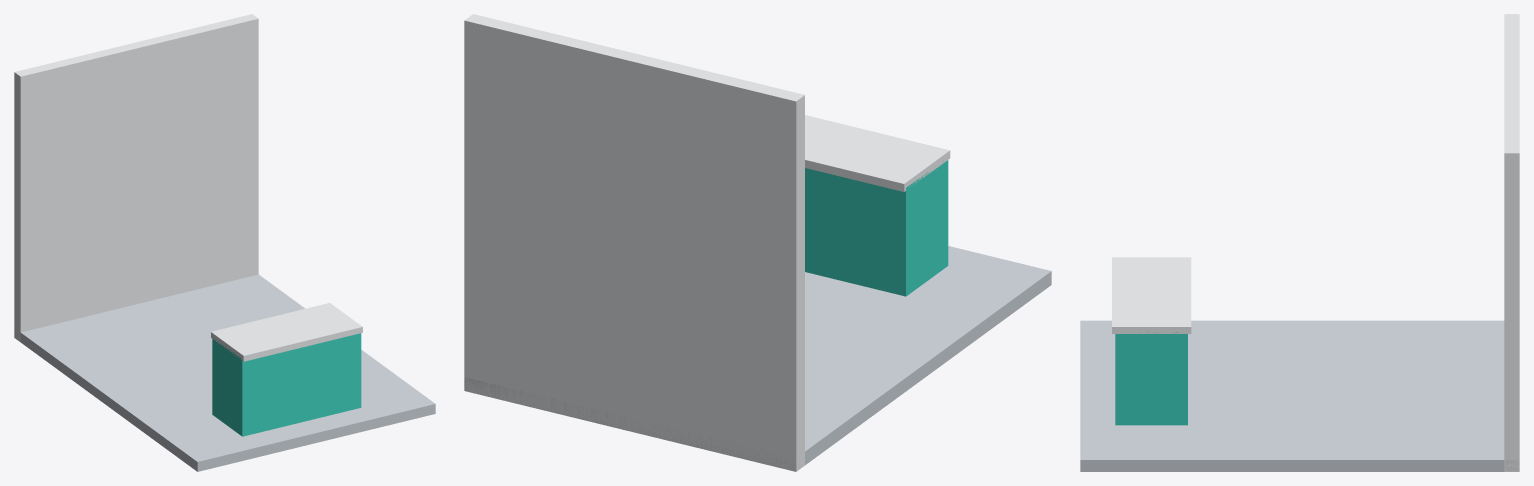
The picture shows the model from 3 angles, left to right: view 1: azimuth 30°, elevation 25°; view 2: azimuth 150°, elevation 25°; view 3: azimuth 270°, elevation 25°; orthographic projection. The views are drawn at different scales.
Visible parts, largest first — view 1: Exhibition Booth Concept; view 2: Exhibition Booth Concept; view 3: Exhibition Booth Concept.
Boxes of the visible parts, x1,y1,x2,y2 form: Exhibition Booth Concept: (14,14,435,471); Exhibition Booth Concept: (464,14,1051,471); Exhibition Booth Concept: (1080,14,1519,471).
Size of the model in its own units: 3 by 3.2 by 4.
